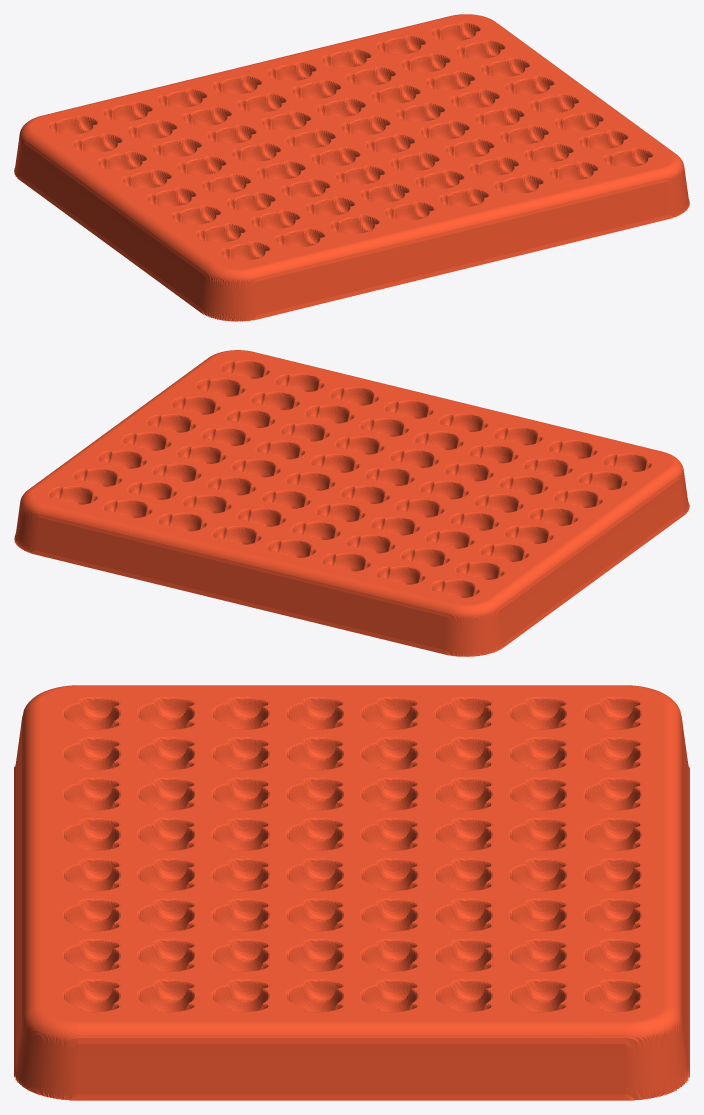
File: mold.glb
The picture shows the model from 3 angles, top to bottom: view 1: azimuth 30°, elevation 25°; view 2: azimuth 150°, elevation 25°; view 3: azimuth 270°, elevation 25°; orthographic projection. The views are drawn at different scales.
Visible parts, largest first — view 1: geometry_0; view 2: geometry_0; view 3: geometry_0.
Boxes of the visible parts, x1=… form: geometry_0: x1=14, y1=14, x2=689, y2=321; geometry_0: x1=14, y1=350, x2=689, y2=656; geometry_0: x1=14, y1=685, x2=689, y2=1100.
Size of the model in its own units: 0.1175 by 0.0105 by 0.0941.
